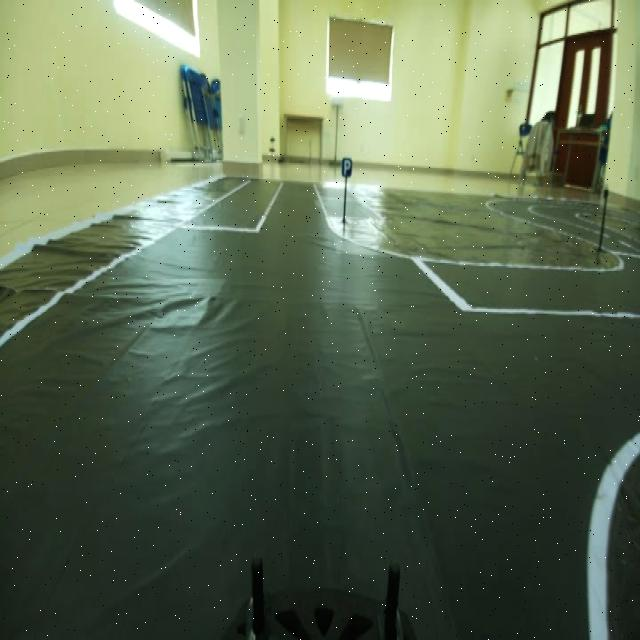parking: (336, 149, 356, 184)
